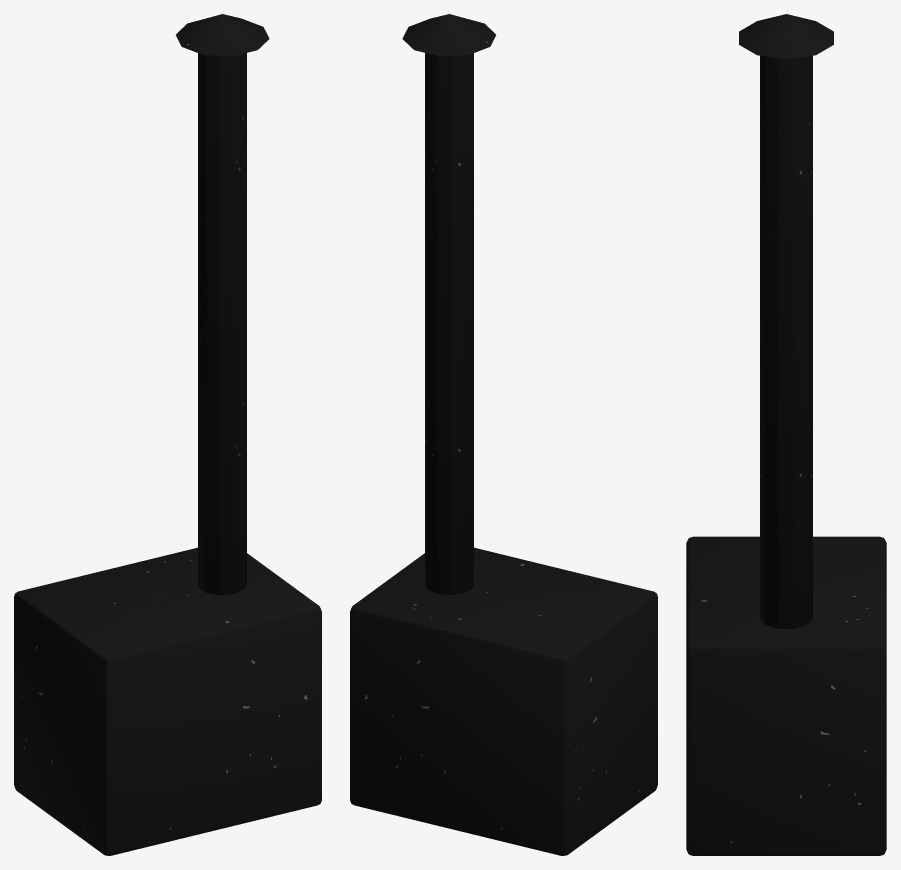
File: stove.glb
3 views of the same model, side by side, from view 1: azimuth 30°, elevation 25°; view 2: azimuth 150°, elevation 25°; view 3: azimuth 270°, elevation 25° (orthographic). The views are drawn at different scales.
Visible parts, largest first — view 1: boat_iron; view 2: boat_iron; view 3: boat_iron.
Boxes of the visible parts, x1,y1,x2,y2 form: boat_iron: [14, 14, 321, 855]; boat_iron: [350, 14, 657, 855]; boat_iron: [686, 14, 886, 855].
Bounding box in the file's own units: 0.8 × 2.7 × 0.6.
Materials: 1 (1 with a texture image).
